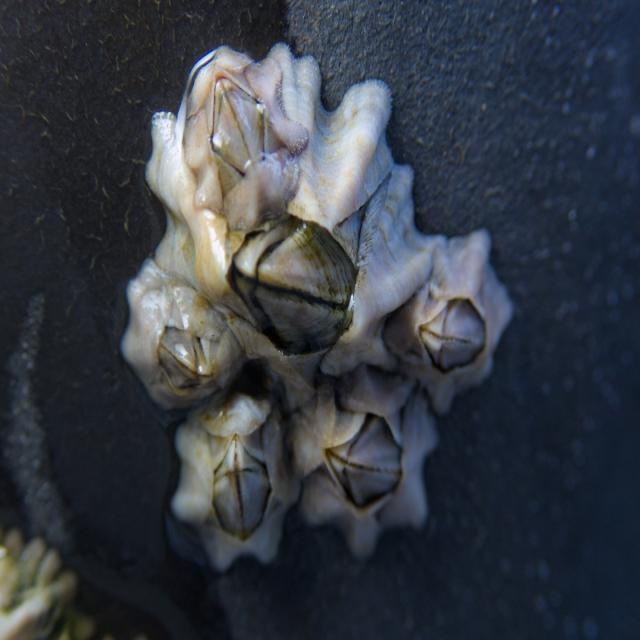barnacles: (192, 177, 434, 403), (294, 370, 439, 563), (172, 396, 300, 590), (392, 229, 511, 410), (178, 36, 294, 216), (119, 281, 241, 408)
